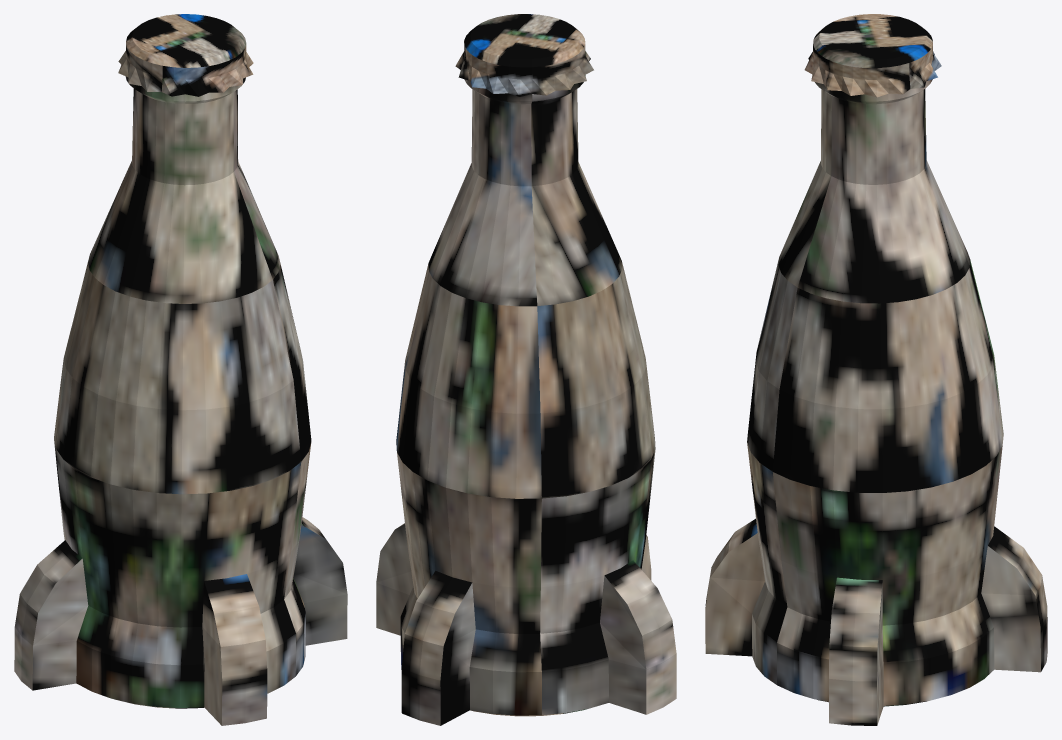
The picture shows the model from 3 angles, left to right: view 1: azimuth 30°, elevation 25°; view 2: azimuth 150°, elevation 25°; view 3: azimuth 270°, elevation 25°; orthographic projection.
Bounding box in the file's own units: 0.4991 × 1 × 0.499.
1 material, 1 textured.
